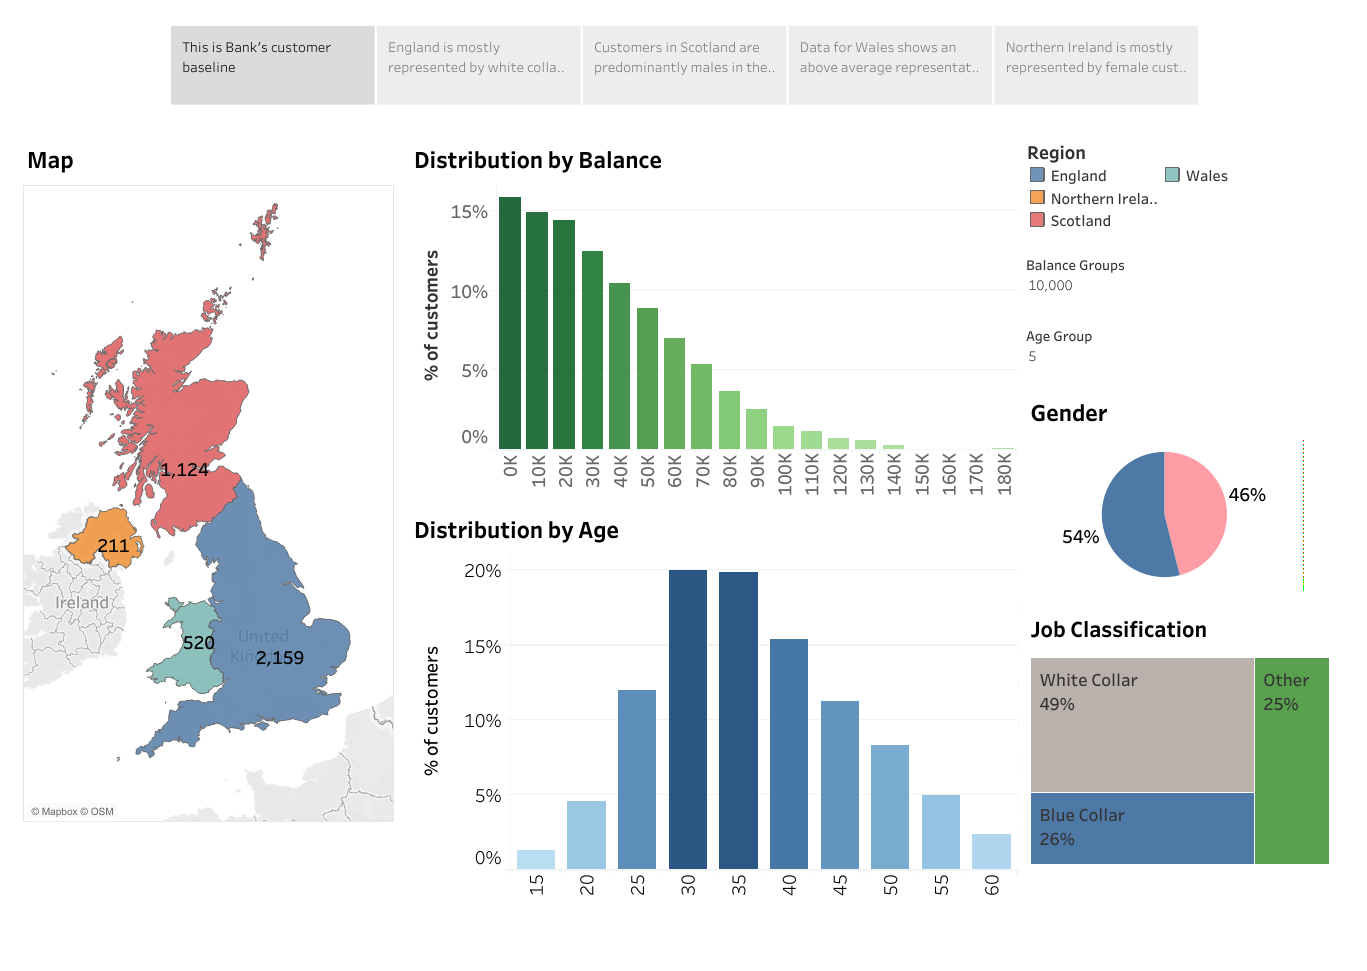

What the dashboard file says about the page in this screenshot:
{"tool":"tableau","page":{"name":"Dashboard 1","canvas":[1200,700],"ordinal":0},"visuals":[{"type":"worksheet","title":"Map","mark":"Multipolygon","box":[8,8,343.6,684]},{"type":"worksheet","title":"Distribution by Balance","mark":"Automatic","rows":["P1-UK-Bank-Customers.csv_83E9E45E1A404146B9EAFC58BB9B16C5"],"cols":["Balance (bin)"],"box":[351.6,8,548.4,328.9]},{"type":"legend","title":"Map","param":"[federated.1g55sgj1txtbbn15kvb231b5a0hr].[none:Region:nk]","box":[900,8,292,104]},{"type":"parameter","param":"[Parameters].[Parameter 1]","box":[900,112,292,63]},{"type":"parameter","param":"[Parameters].[Parameter 2]","box":[900,175,292,58]},{"type":"worksheet","title":"Gender","mark":"Pie","box":[900,233,292,193]},{"type":"worksheet","title":"Distribution by Age","mark":"Automatic","rows":["P1-UK-Bank-Customers.csv_83E9E45E1A404146B9EAFC58BB9B16C5"],"cols":["Age (bin)"],"box":[351.6,336.9,548.4,355.1]},{"type":"worksheet","title":"Job Classification","mark":"Automatic","box":[900,426,292,247]}]}

Visuals, with their boxes on the page's 1200x700 design canvas (x1, y1, x2, y2). These are canvas units, not pixel positions in the 1367x971 screenshot, which may show the page scaled, cropped or inside an application window:
"Map" worksheet (Multipolygon marks): [8, 8, 352, 692]
"Distribution by Balance" worksheet: [352, 8, 900, 337]
"Map" legend: [900, 8, 1192, 112]
parameter: [900, 112, 1192, 175]
parameter: [900, 175, 1192, 233]
"Gender" worksheet (Pie marks): [900, 233, 1192, 426]
"Distribution by Age" worksheet: [352, 337, 900, 692]
"Job Classification" worksheet: [900, 426, 1192, 673]
